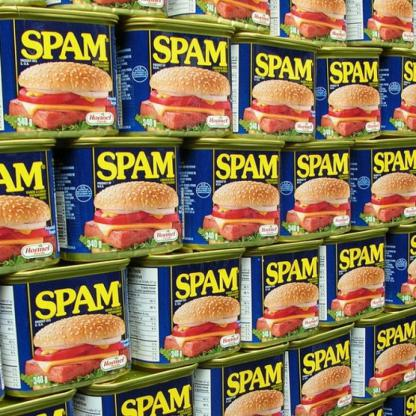spam: (3, 15, 118, 135), (69, 141, 188, 252), (128, 13, 233, 134), (16, 275, 130, 381), (148, 260, 242, 360), (190, 142, 284, 238), (242, 35, 316, 137), (250, 248, 324, 340), (280, 144, 354, 232), (322, 50, 386, 140), (326, 239, 388, 310), (366, 147, 416, 221)
